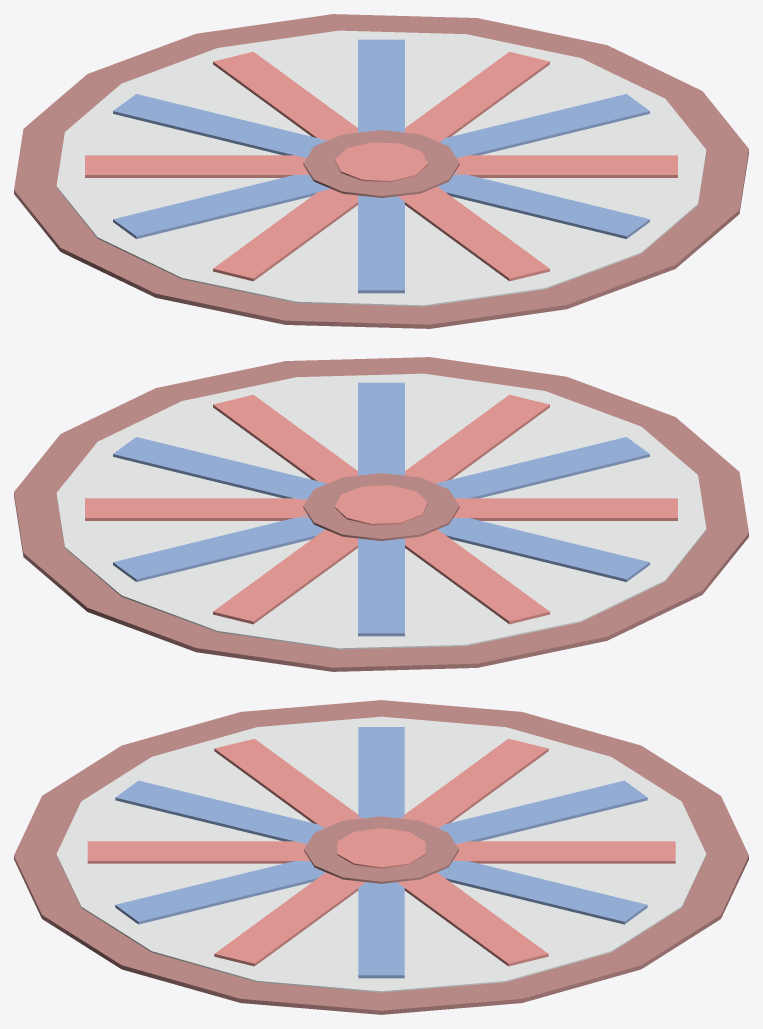
File: rugSunburst.glb
The picture shows the model from 3 angles, top to bottom: view 1: azimuth 30°, elevation 25°; view 2: azimuth 150°, elevation 25°; view 3: azimuth 270°, elevation 25°; orthographic projection.
Visible parts, largest first — view 1: rugSunburst; view 2: rugSunburst; view 3: rugSunburst.
Part boxes in pixels (bbox=[...]): rugSunburst: bbox=[14, 14, 748, 328]; rugSunburst: bbox=[14, 357, 748, 671]; rugSunburst: bbox=[14, 700, 748, 1014].
Size of the model in its own units: 0.95 by 0.017 by 0.95.
